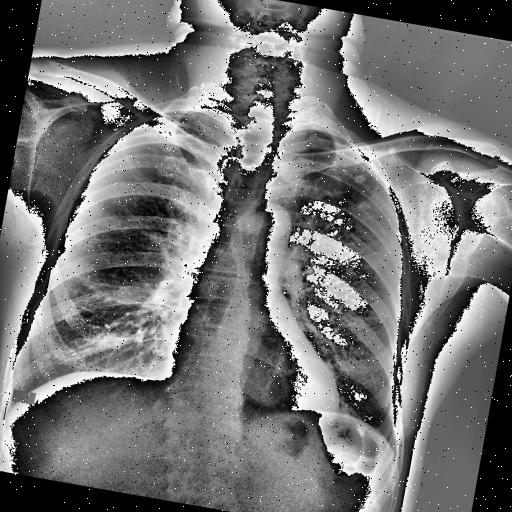11- Pleural thickening: (286, 121, 346, 143), (168, 102, 223, 124)
13- Pulmonary fibrosis: (308, 165, 376, 237), (298, 196, 346, 242)
2- Calcification: (308, 165, 376, 237)
8- Nodule-Mass: (356, 200, 375, 212), (350, 170, 366, 184), (350, 172, 366, 183), (357, 198, 371, 208)
